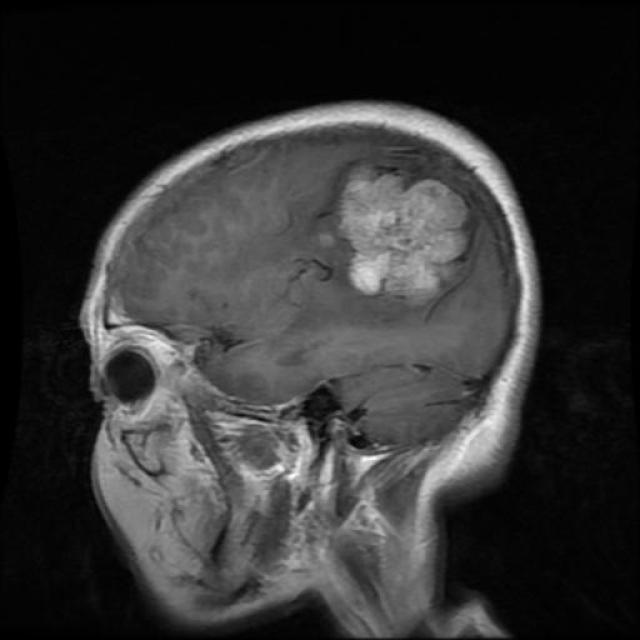meningioma: (338, 166, 468, 296)
